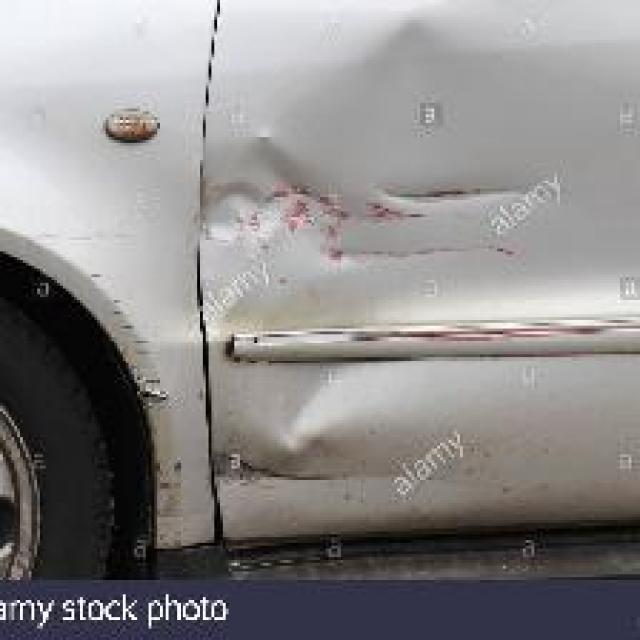damaged: (88, 140, 563, 540)
